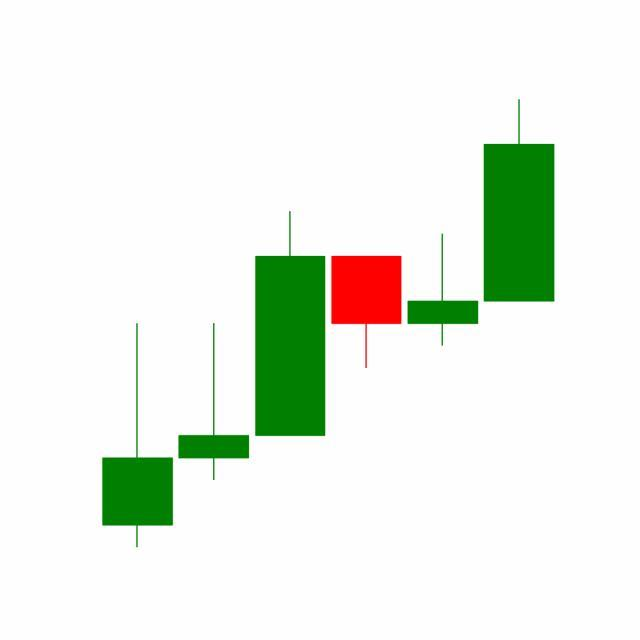Gravestone Doji: (404, 232, 482, 348)
